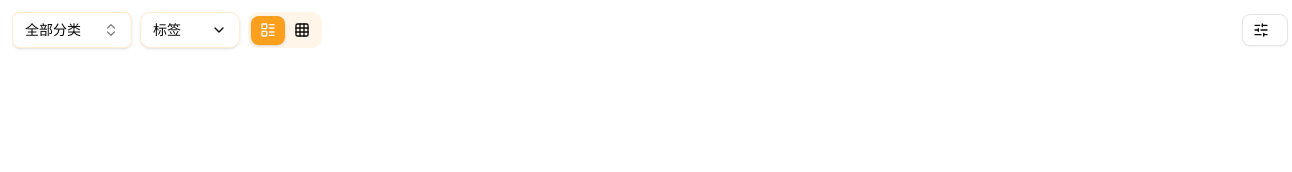
Test case: ThingHeader › 标签筛选 › 应该支持打开标签下拉菜单
The image size is (1292, 172).
What coordinates should you click on to do the following:
click the button "标签"
I would click on:
 (190, 30)
Its box is [140,12,240,48].
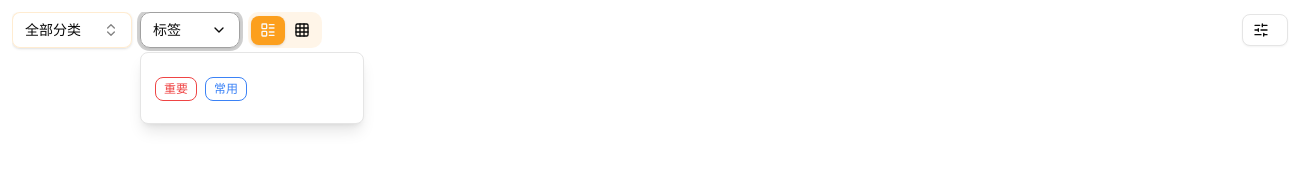
Now the text "重要" is shown, box [155,77,197,101]
Now the text "常用" is shown, box [205,77,247,101]
